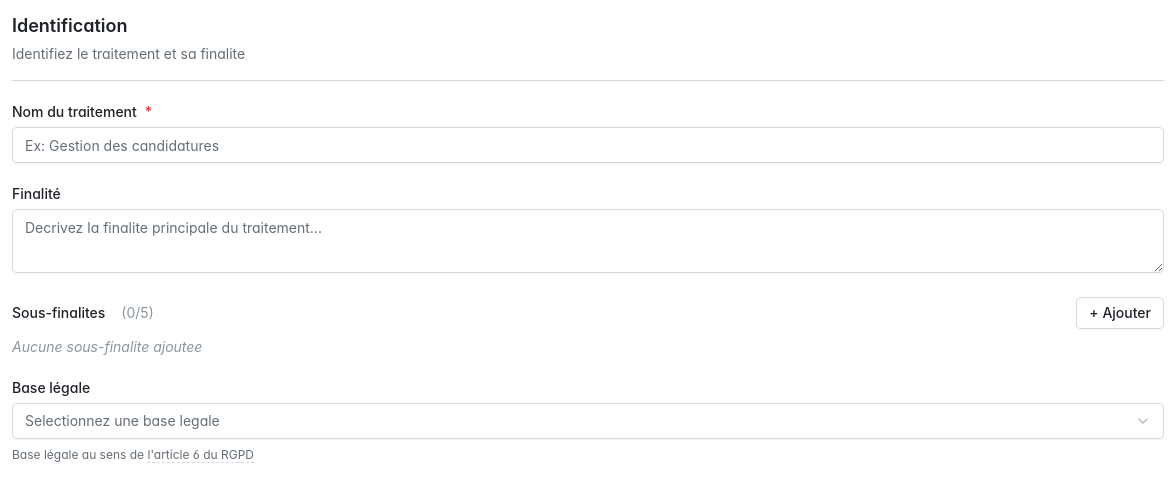
Test: Step1Identity › appends a new sub-purpose row when the "+ Ajouter" button is clicked
Click the button "+ Ajouter": (1120, 313) [1076, 297, 1164, 329]
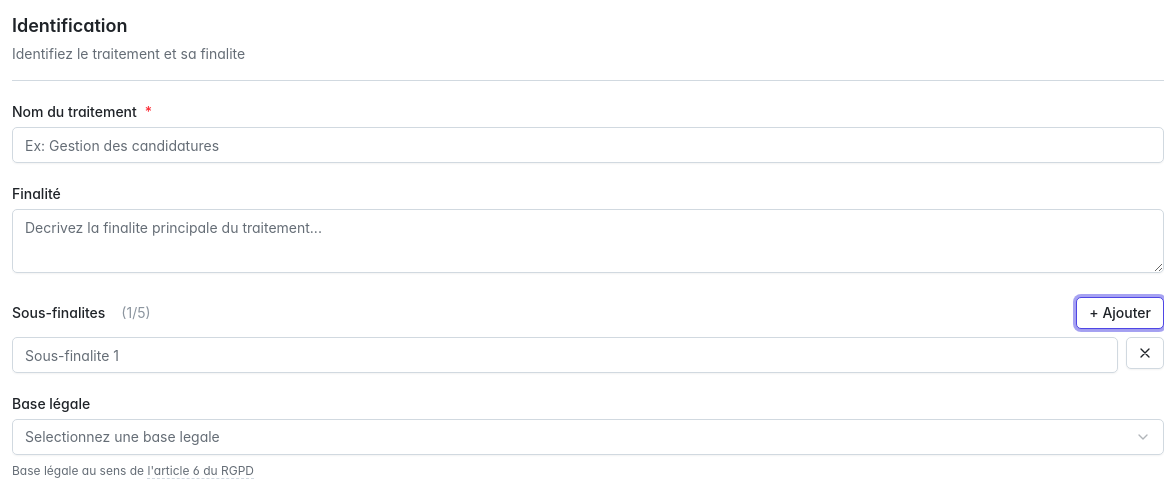
Expected: the field with placeholder "Sous-finalite 1" is shown, [12, 337, 1118, 373]
